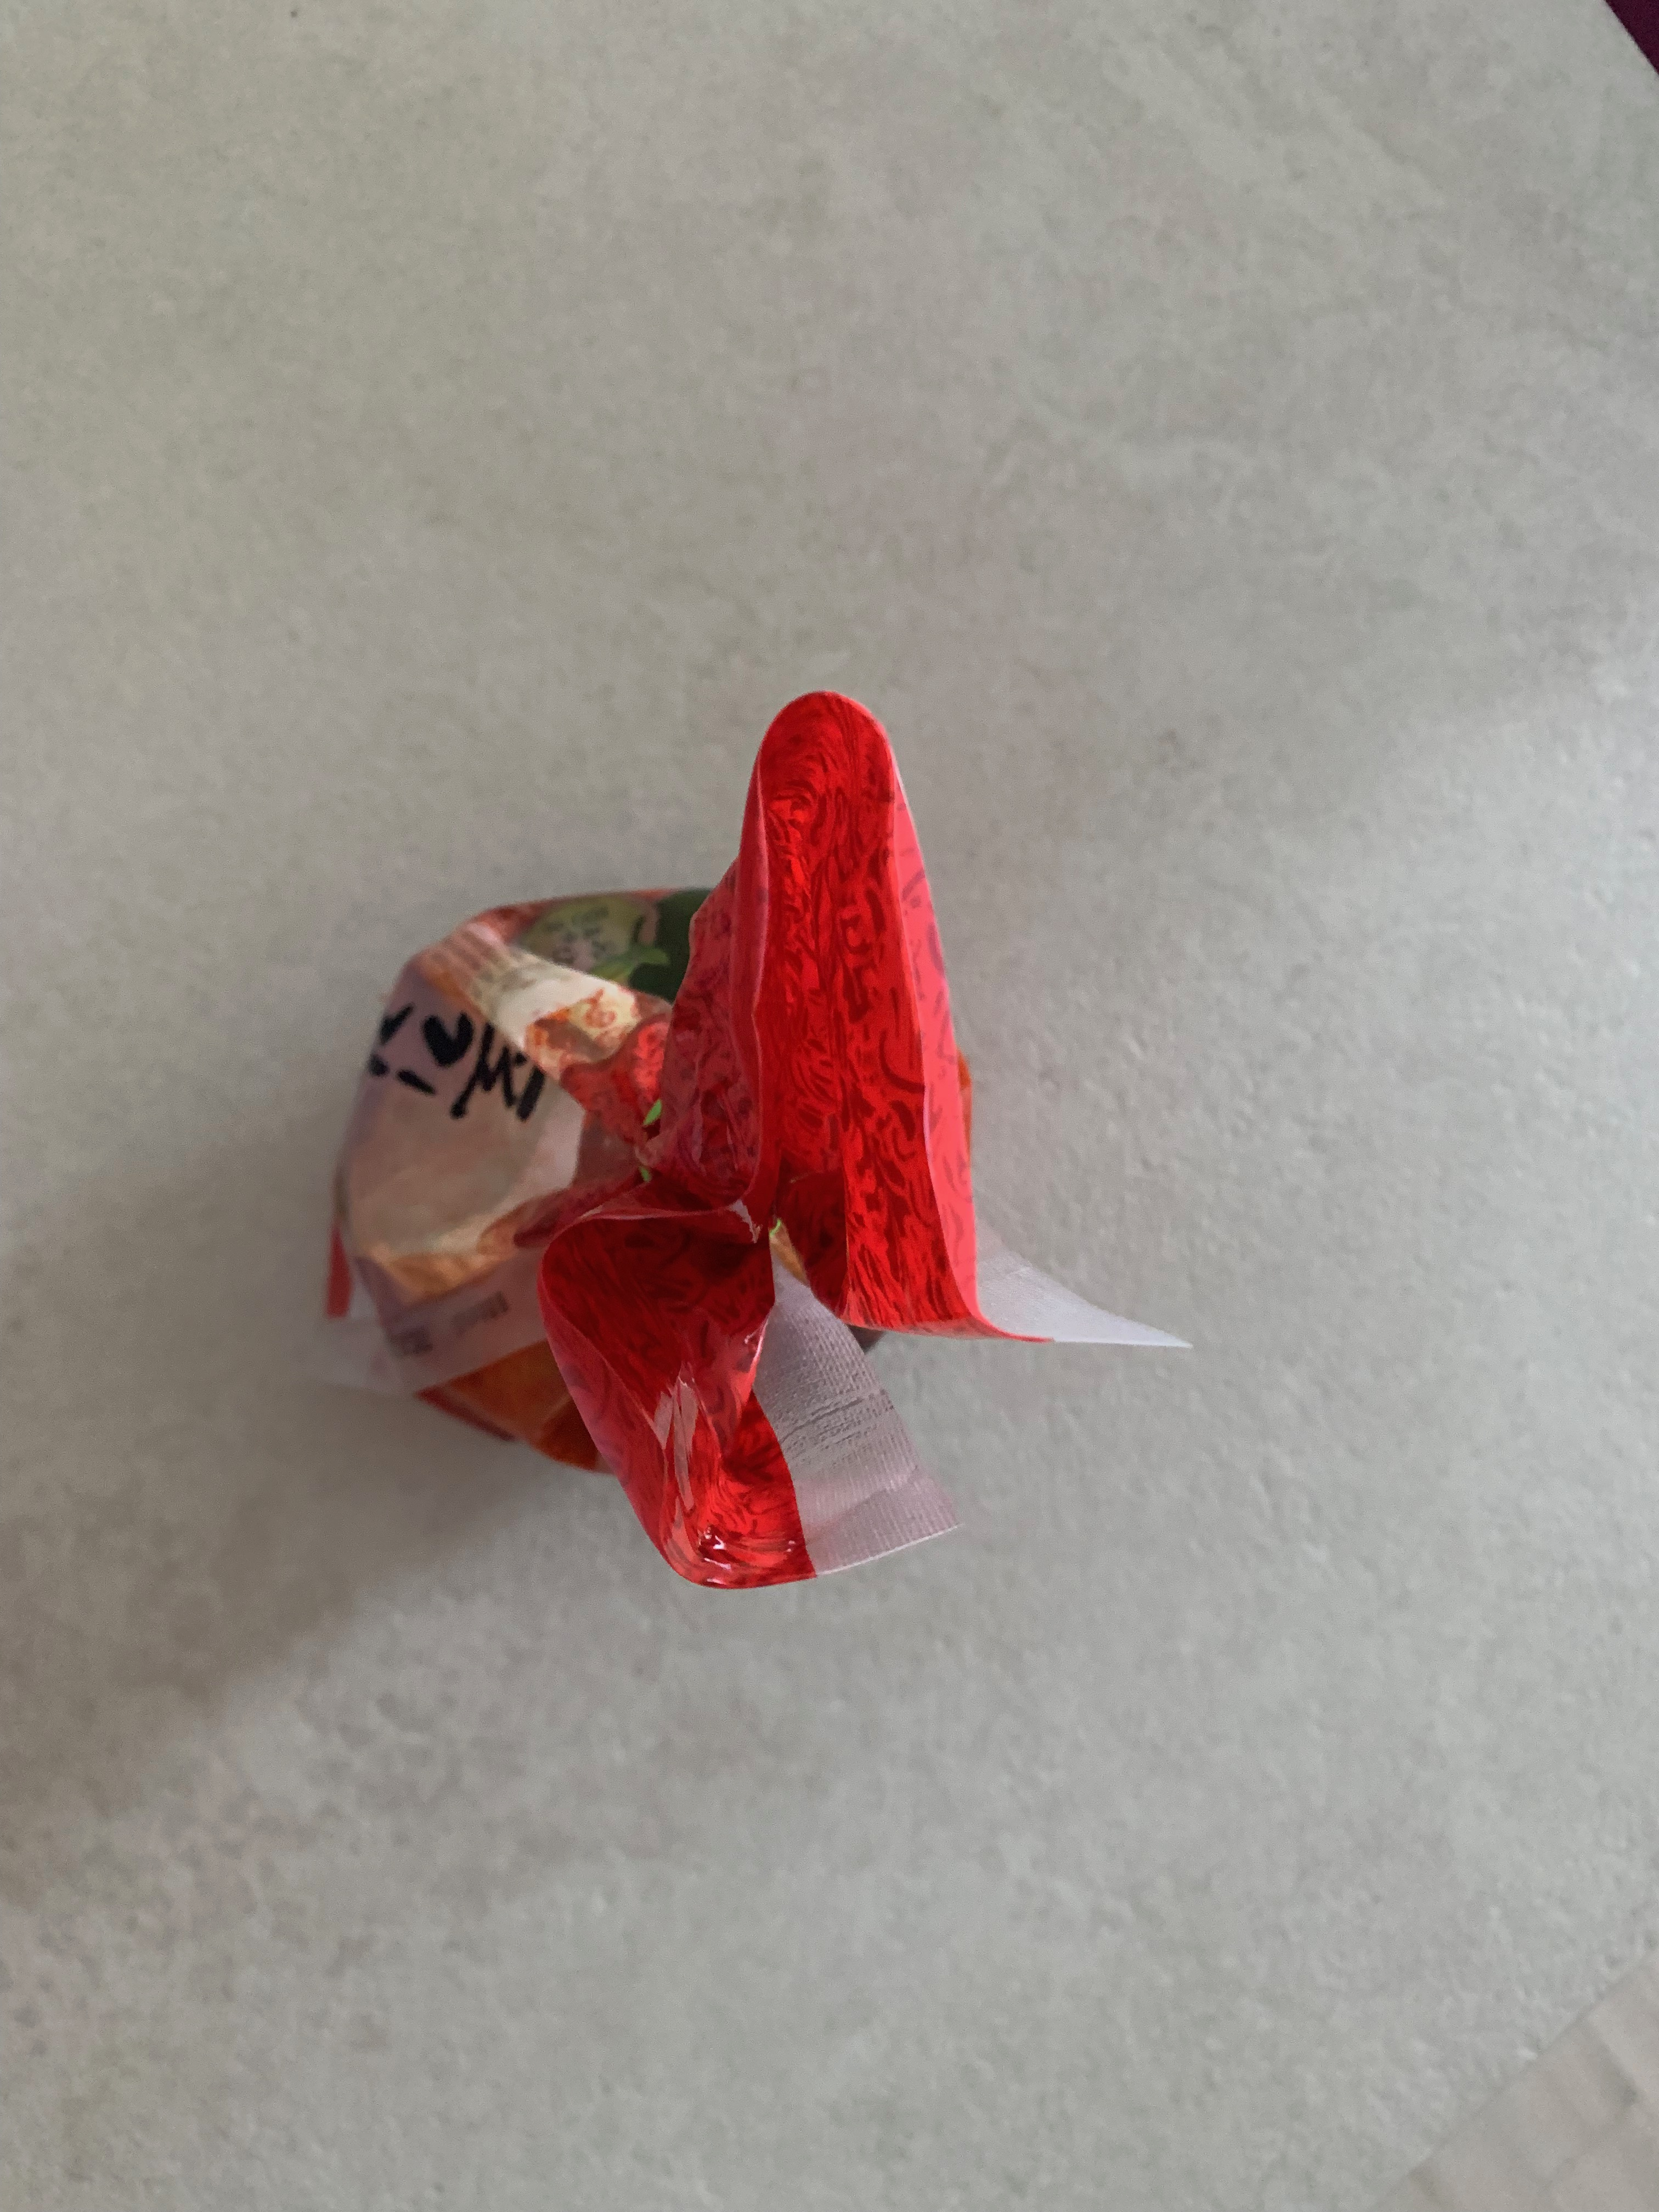kimchi: (322, 695, 1063, 1592)
